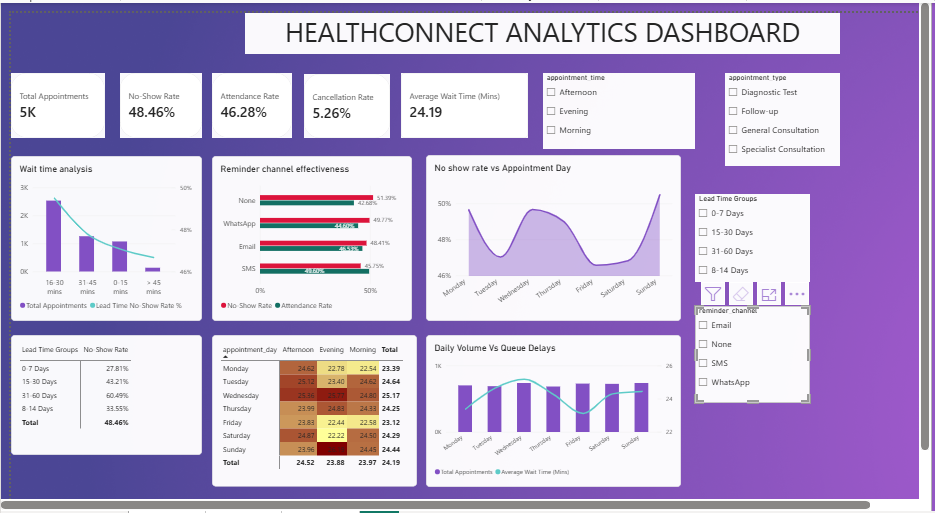

Layout of this report page (visuals, bound fields, positions):
{"tool":"powerbi","page":{"name":"Page 3","canvas":[1920,1080],"ordinal":2},"visuals":[{"type":"textbox","box":[468.7,0,1190.2,82.1],"z":0},{"type":"cardVisual","fields":{"Data":["HealthConnect_Appointment_Data.Total Appointments"]},"box":[0,121,187.9,129.6],"z":1000},{"type":"cardVisual","fields":{"Data":["HealthConnect_Appointment_Data.No-Show Rate"]},"box":[218.2,121,164.2,129.6],"z":2000},{"type":"cardVisual","fields":{"Data":["HealthConnect_Appointment_Data.Attendance Rate"]},"box":[401.8,121,159.8,129.6],"z":3000},{"type":"cardVisual","fields":{"Data":["HealthConnect_Appointment_Data.Cancellation Rate"]},"box":[586,122,172,128],"z":4000},{"type":"lineClusteredColumnComboChart","title":"Wait time analysis","fields":{"Category":["HealthConnect_Appointment_Data.Waiting Time Group"],"Y":["HealthConnect_Appointment_Data.Total Appointments"],"Y2":["HealthConnect_Appointment_Data.Lead Time No-Show Rate %"]},"box":[0,286,382,330],"z":5000},{"type":"clusteredBarChart","title":"Reminder channel effectiveness","fields":{"Category":["HealthConnect_Appointment_Data.reminder_channel"],"Y":["HealthConnect_Appointment_Data.No-Show Rate","HealthConnect_Appointment_Data.Attendance Rate"]},"box":[402,286,400,330],"z":6000},{"type":"pivotTable","fields":{"Rows":["HealthConnect_Appointment_Data.Lead Time Groups"],"Values":["HealthConnect_Appointment_Data.No-Show Rate"]},"box":[0,644,382,240],"z":7000},{"type":"cardVisual","fields":{"Data":["HealthConnect_Appointment_Data.Average Wait Time (Mins)"]},"box":[780,120,254,130],"z":8000},{"type":"pivotTable","fields":{"Columns":["HealthConnect_Appointment_Data.appointment_time"],"Rows":["HealthConnect_Appointment_Data.appointment_day"],"Values":["HealthConnect_Appointment_Data.Average Wait Time (Mins)"]},"box":[402,644,410,303.3],"z":9000},{"type":"lineClusteredColumnComboChart","title":"Daily Volume Vs Queue Delays","fields":{"Category":["HealthConnect_Appointment_Data.appointment_day"],"Y":["HealthConnect_Appointment_Data.Total Appointments"],"Y2":["HealthConnect_Appointment_Data.Average Wait Time (Mins)"]},"box":[830,644,510,304],"z":10000},{"type":"areaChart","title":"No show rate vs Appointment Day","fields":{"Category":["HealthConnect_Appointment_Data.appointment_day"],"Y":["HealthConnect_Appointment_Data.No-Show Rate"]},"box":[830,284,510,332],"z":11000},{"type":"slicer","fields":{"Values":["HealthConnect_Appointment_Data.appointment_type"]},"box":[1428,120,230,186],"z":11001},{"type":"slicer","fields":{"Values":["HealthConnect_Appointment_Data.appointment_time"]},"box":[1064,120,304,152],"z":11002},{"type":"slicer","fields":{"Values":["HealthConnect_Appointment_Data.reminder_channel"]},"box":[1368,586,230,194],"z":11003},{"type":"slicer","fields":{"Values":["HealthConnect_Appointment_Data.Lead Time Groups"]},"box":[1368,362,230,176],"z":11004}]}

Visuals, with their boxes in screenshot pixels (x1, y1, x2, y2), scaled from the page's 1920x1080 canvas onto the 935x513 screenshot:
textbox: 228, 0, 808, 39
cardVisual - HealthConnect_Appointment_Data.Total Appointments: 0, 57, 92, 119
cardVisual - HealthConnect_Appointment_Data.No-Show Rate: 106, 57, 186, 119
cardVisual - HealthConnect_Appointment_Data.Attendance Rate: 196, 57, 273, 119
cardVisual - HealthConnect_Appointment_Data.Cancellation Rate: 285, 58, 369, 119
"Wait time analysis" lineClusteredColumnComboChart: 0, 136, 186, 293
"Reminder channel effectiveness" clusteredBarChart: 196, 136, 391, 293
pivotTable - HealthConnect_Appointment_Data.Lead Time Groups x HealthConnect_Appointment_Data.No-Show Rate: 0, 306, 186, 420
cardVisual - HealthConnect_Appointment_Data.Average Wait Time (Mins): 380, 57, 504, 119
pivotTable - HealthConnect_Appointment_Data.appointment_time x HealthConnect_Appointment_Data.appointment_day: 196, 306, 395, 450
"Daily Volume Vs Queue Delays" lineClusteredColumnComboChart: 404, 306, 653, 450
"No show rate vs Appointment Day" areaChart: 404, 135, 653, 293
slicer - HealthConnect_Appointment_Data.appointment_type: 695, 57, 807, 145
slicer - HealthConnect_Appointment_Data.appointment_time: 518, 57, 666, 129
slicer - HealthConnect_Appointment_Data.reminder_channel: 666, 278, 778, 370
slicer - HealthConnect_Appointment_Data.Lead Time Groups: 666, 172, 778, 256
